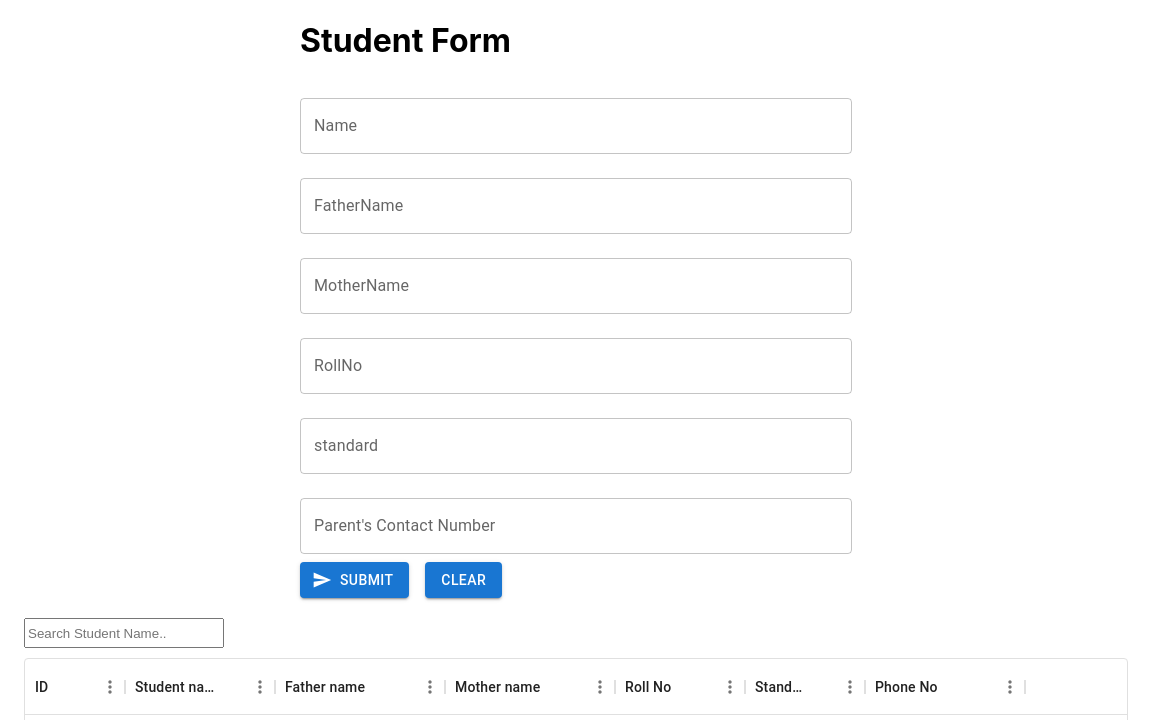
Test: Button Test Cases › Clear every input fields when Clear button is clicked
In the field with test id "sName": (576, 126) [300,98,852,154], type "testing"
In the field labelled "FatherName": (576, 206) [300,178,852,234], type "abcd"
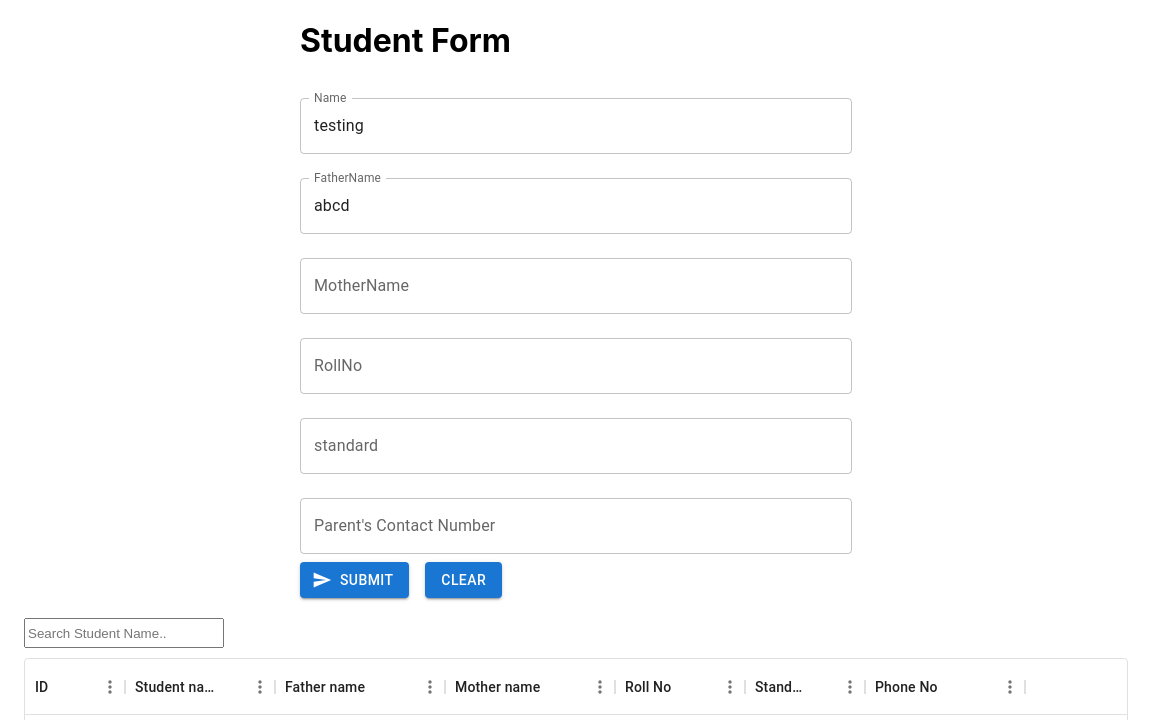
In the field labelled "MotherName": (576, 286) [300,258,852,314], type "efg"
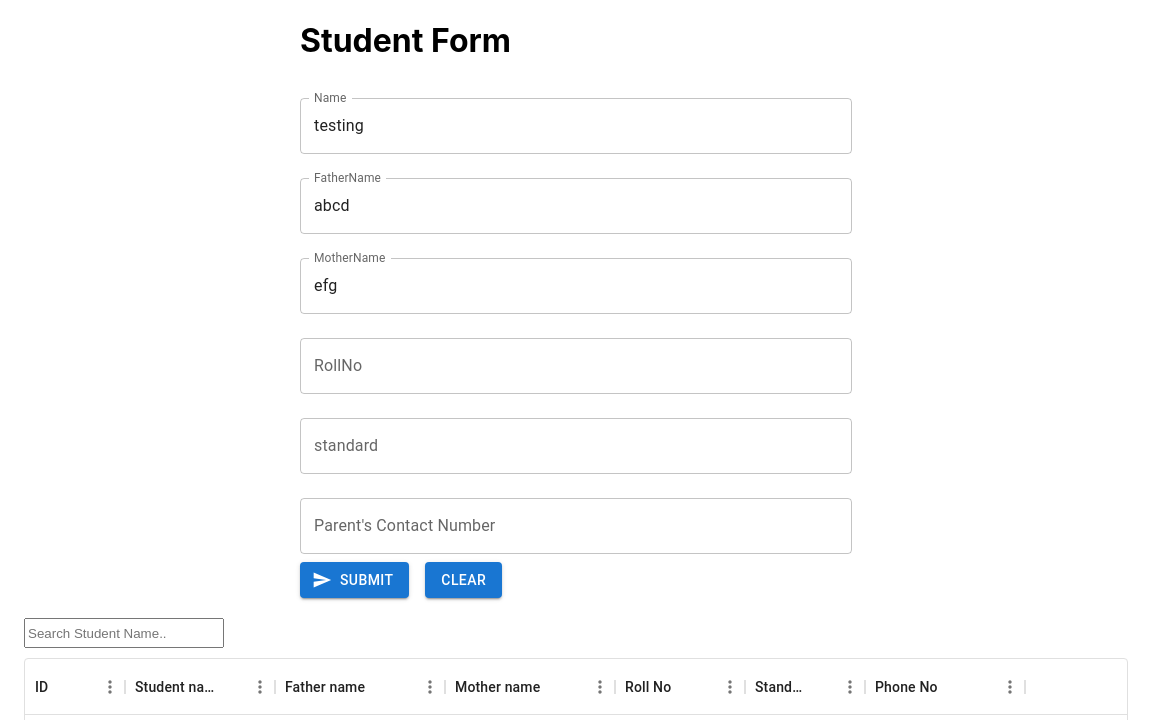
In the number field with test id "nRollNo": (576, 366) [300,338,852,394], type "123"
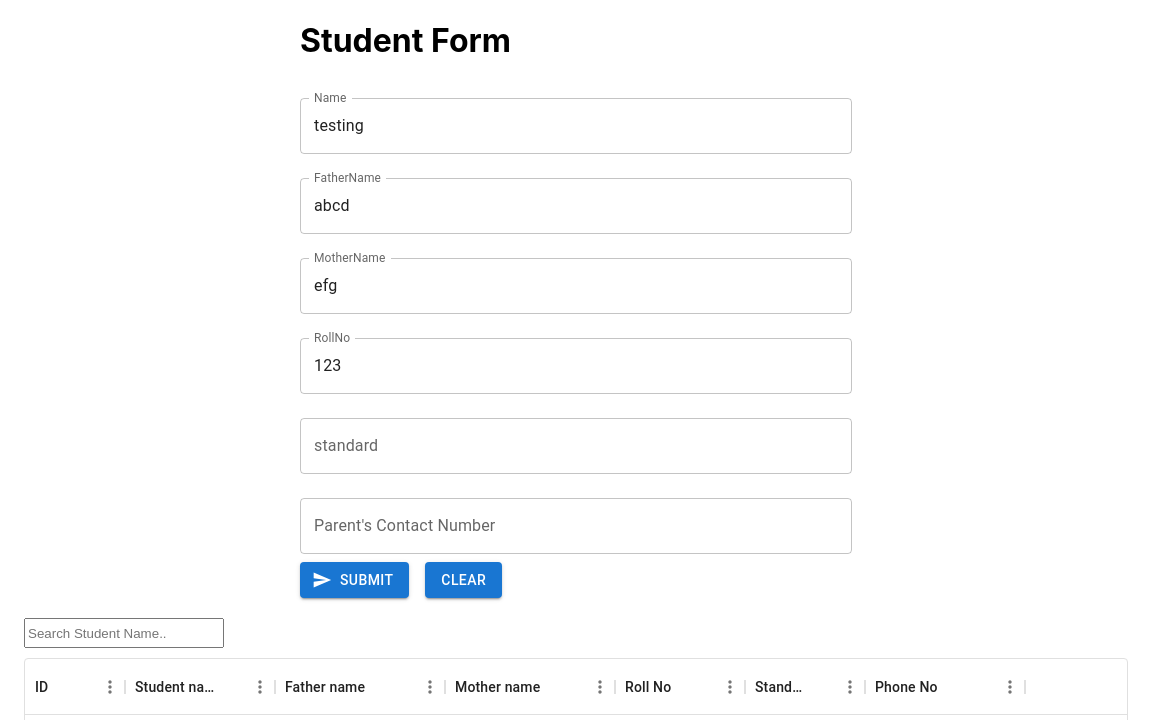
In the number field with test id "nStandard": (576, 446) [300,418,852,474], type "12"
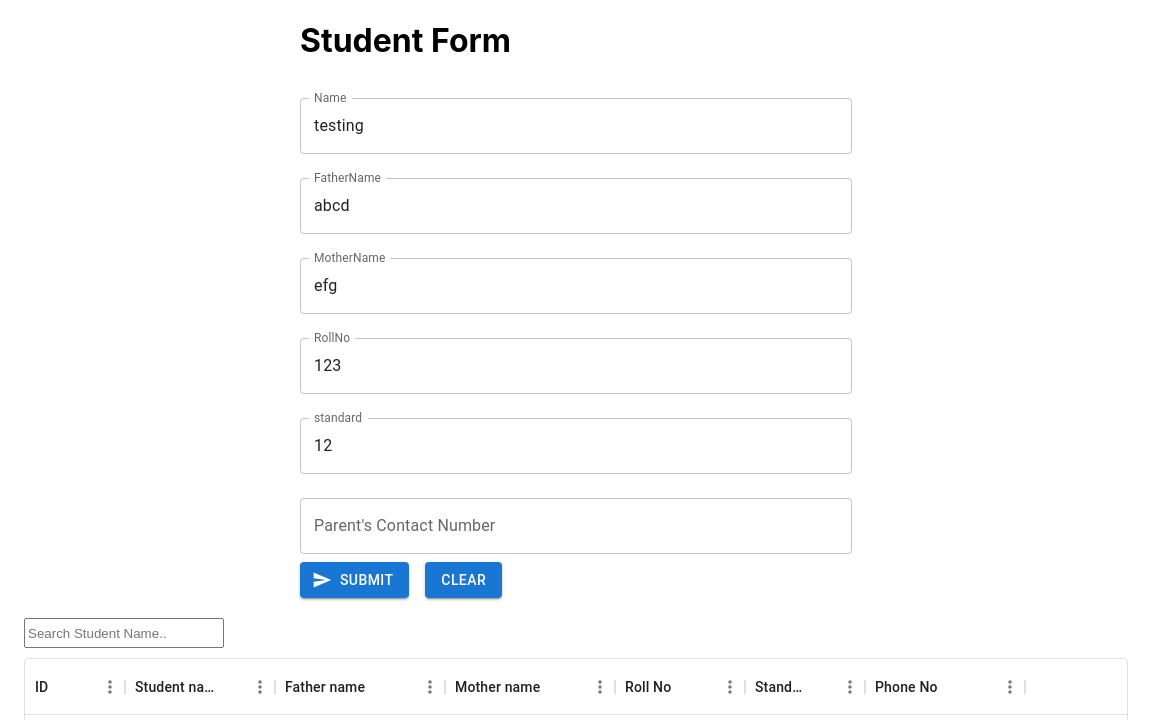
In the field with test id "sContactNo": (576, 526) [300,498,852,554], type "1234567890"
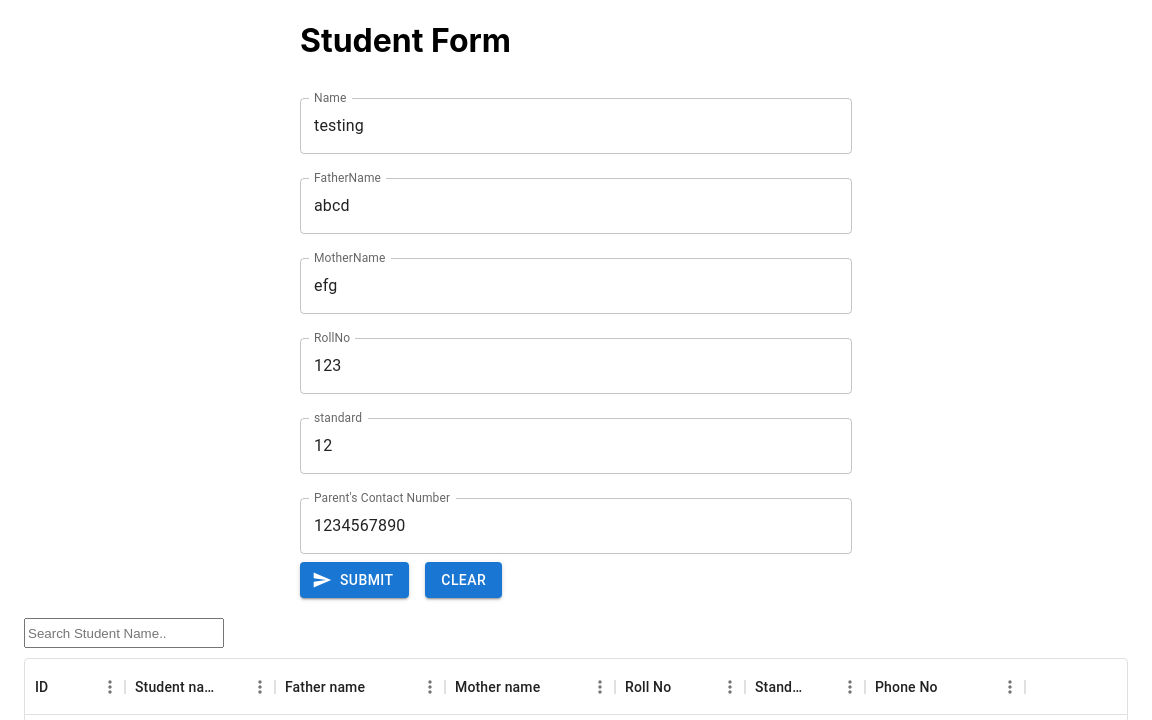
Click the button "Clear": (464, 580) [425,562,502,598]
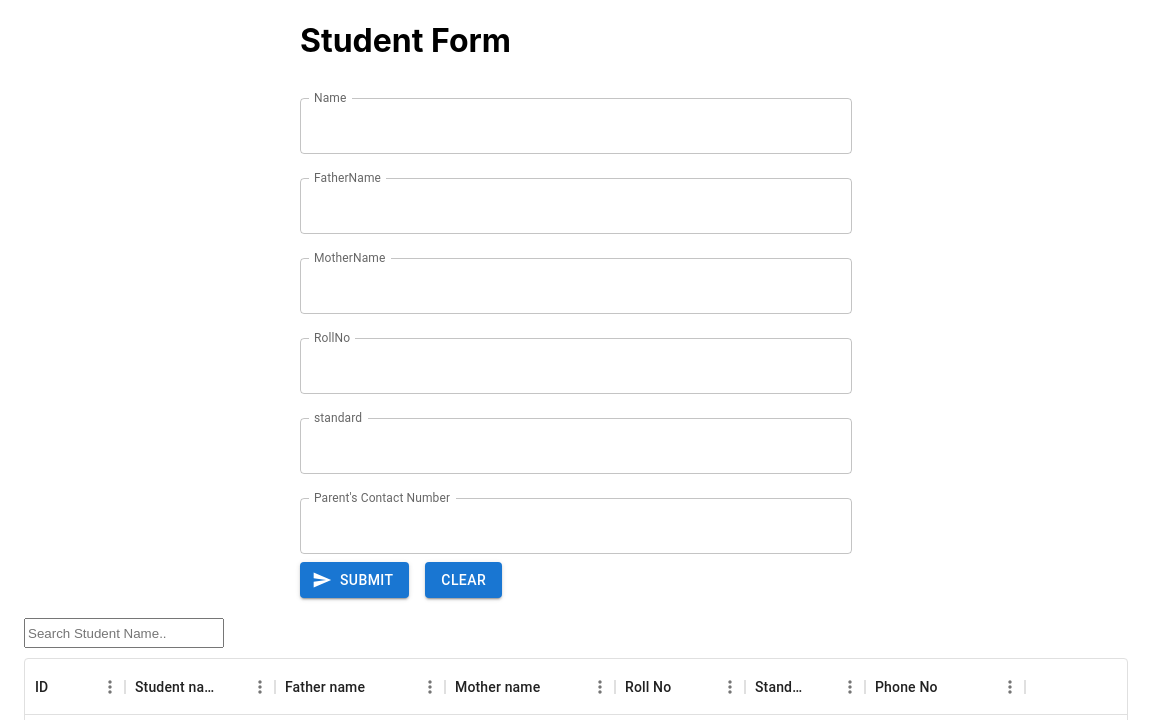
Result: the field with test id "sName" is empty at [300,98,852,154]
Result: the field labelled "FatherName" is empty at [300,178,852,234]
Result: the field labelled "MotherName" is empty at [300,258,852,314]
